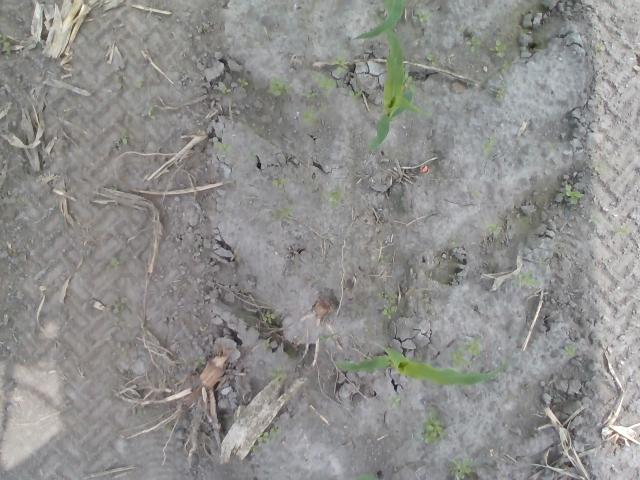Maize: (366, 15, 434, 150), (332, 339, 513, 388), (352, 1, 404, 42)
Weeds: (248, 424, 280, 454), (452, 336, 483, 366), (422, 412, 444, 444), (448, 459, 474, 480), (515, 271, 541, 291), (268, 364, 288, 390), (562, 186, 585, 206), (304, 88, 328, 107), (332, 54, 349, 80), (269, 203, 293, 221), (326, 190, 346, 210), (488, 39, 508, 58), (401, 68, 416, 92), (268, 78, 288, 96), (316, 73, 334, 93), (110, 298, 132, 314), (120, 116, 132, 145), (270, 176, 288, 190), (380, 304, 398, 318), (466, 34, 479, 53), (348, 90, 362, 106), (193, 356, 207, 372), (300, 109, 316, 122), (412, 10, 429, 22), (484, 139, 496, 156), (0, 36, 11, 54), (214, 140, 228, 154), (426, 52, 438, 68), (378, 253, 392, 266), (487, 224, 502, 236), (136, 74, 146, 90), (612, 224, 626, 235), (264, 312, 276, 324), (566, 344, 578, 356), (390, 394, 400, 408), (148, 103, 156, 120), (221, 86, 232, 97), (594, 166, 606, 176), (113, 73, 120, 88), (239, 78, 249, 88), (110, 258, 120, 268), (495, 89, 505, 98), (588, 214, 596, 222), (266, 338, 270, 348), (600, 46, 606, 51)
